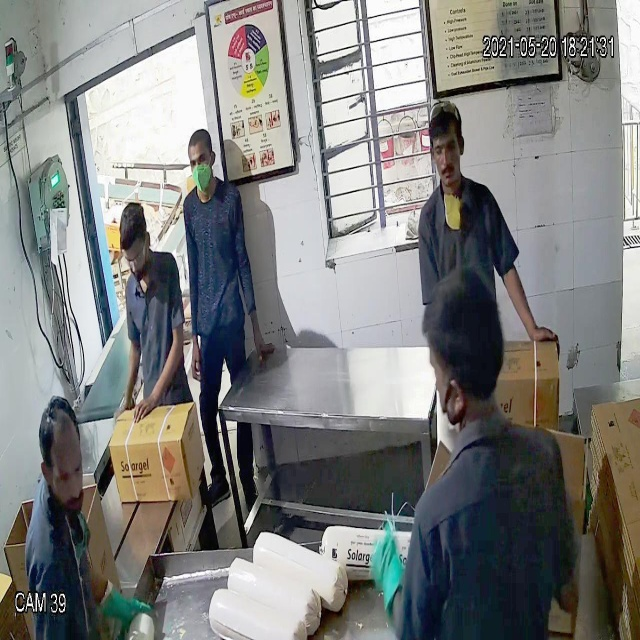Gafas: (122, 248, 149, 270)
Sin_gafas: (40, 454, 88, 492), (426, 134, 462, 160), (185, 152, 214, 172)
